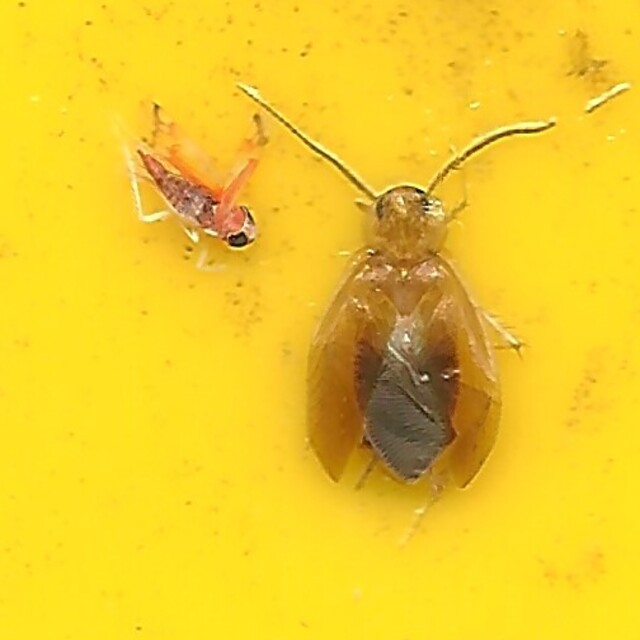Coleoptera: (297, 181, 513, 501)
Hemiptera: (127, 139, 262, 259)
